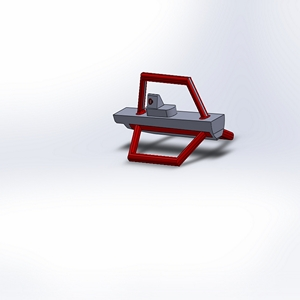submarine: (108, 66, 243, 171)
